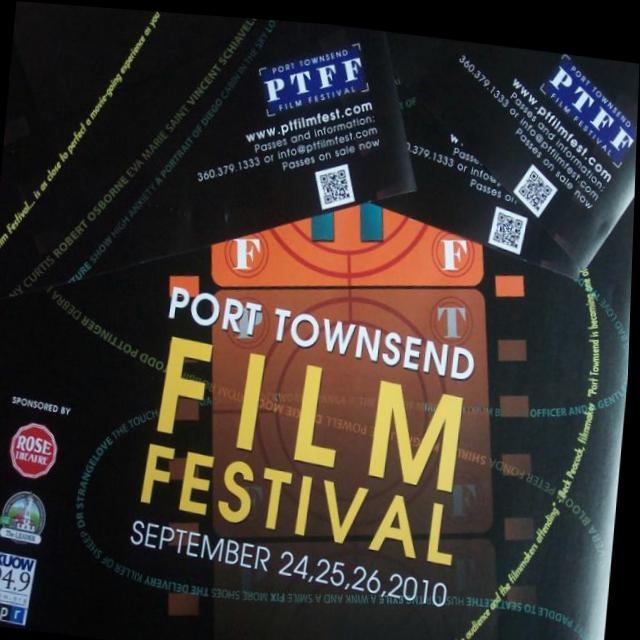qrcode: (519, 161, 555, 205), (319, 162, 354, 203), (495, 205, 526, 241)
